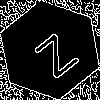Z: (25, 25, 81, 80)
